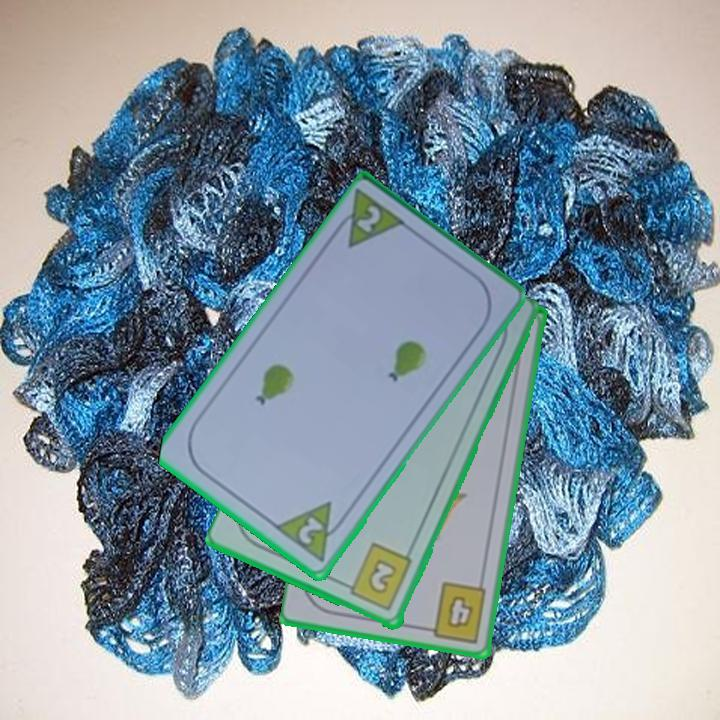2b: (339, 540, 416, 614)
2p: (271, 498, 351, 566), (352, 202, 384, 237)
4b: (420, 578, 490, 646)
